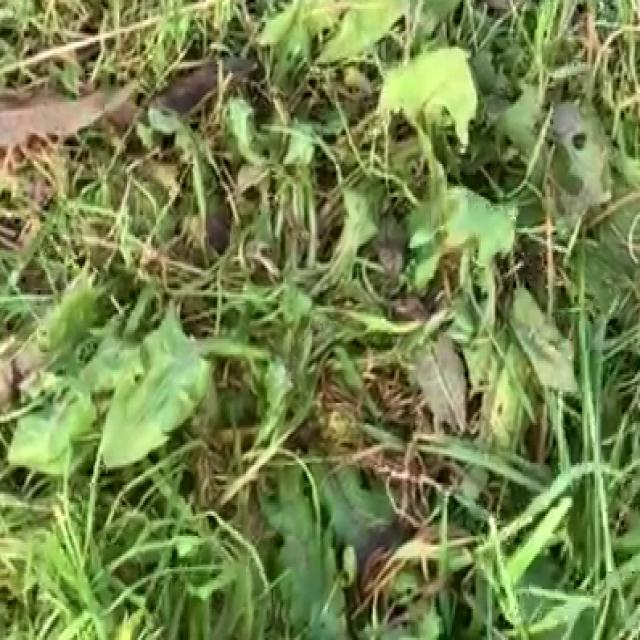organic waste: (23, 243, 323, 602), (236, 0, 513, 246)
